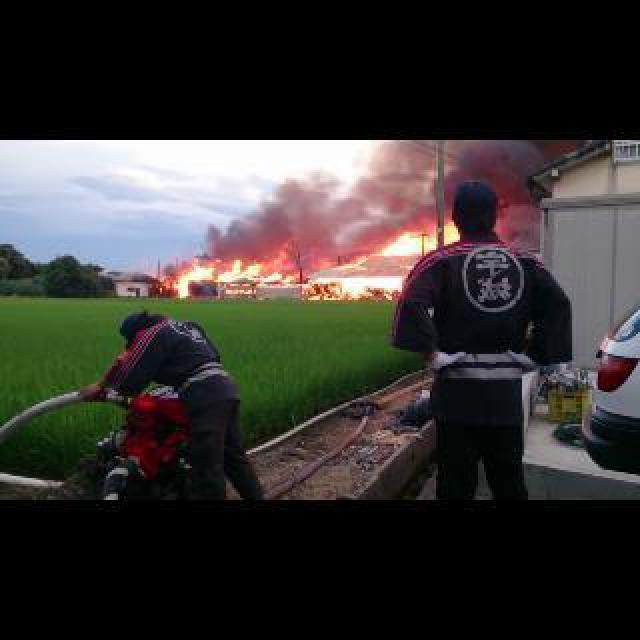Fire: (168, 260, 300, 296), (376, 224, 458, 254), (304, 276, 406, 298), (332, 254, 368, 268)
Smoke: (198, 162, 382, 264)
